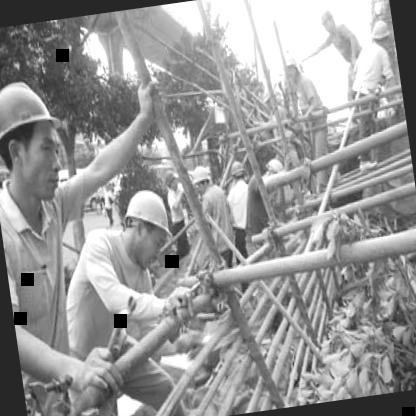helmet: (0, 63, 80, 211), (0, 66, 79, 214), (110, 180, 180, 268), (258, 154, 288, 194), (366, 11, 393, 55), (314, 4, 342, 41), (192, 160, 216, 196), (158, 162, 181, 198), (226, 155, 249, 189), (279, 46, 300, 81)
